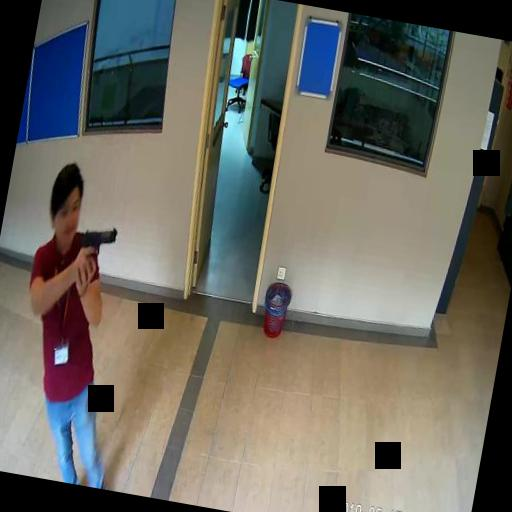Handgun: (73, 220, 116, 282)
